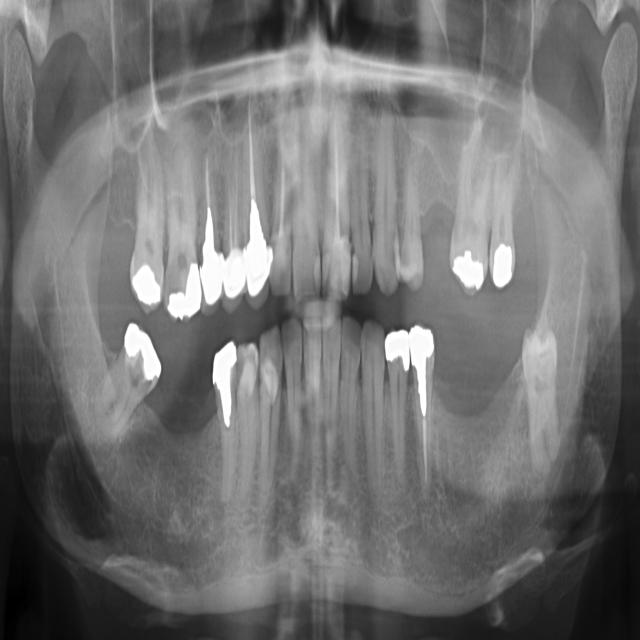tooth: (164, 132, 202, 319), (450, 120, 491, 291), (131, 141, 165, 312), (243, 119, 273, 309), (291, 111, 321, 300), (321, 120, 352, 302), (96, 345, 157, 437), (522, 322, 558, 464), (373, 115, 399, 295), (259, 326, 283, 513), (195, 152, 222, 314), (221, 149, 247, 312), (409, 326, 434, 492), (361, 321, 385, 491), (384, 329, 410, 485), (213, 341, 237, 503), (349, 135, 373, 294), (237, 343, 260, 506), (270, 152, 293, 297), (339, 318, 360, 467), (490, 165, 515, 288), (396, 181, 424, 290), (321, 319, 341, 462), (281, 319, 303, 447), (303, 319, 322, 466), (126, 324, 142, 339)
